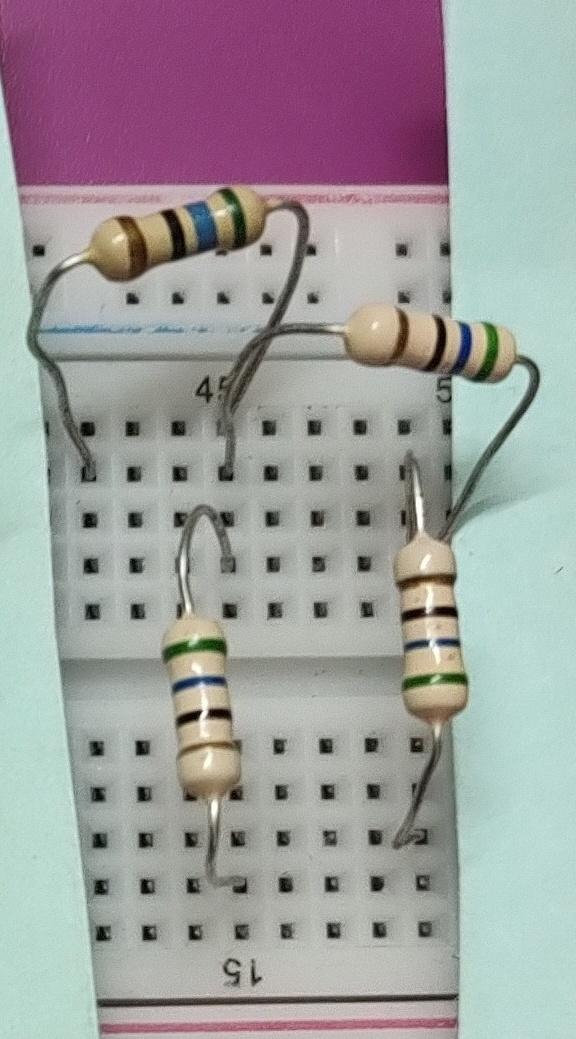resistor: (385, 517, 499, 738), (151, 601, 263, 812), (77, 179, 281, 288), (335, 291, 533, 395)
